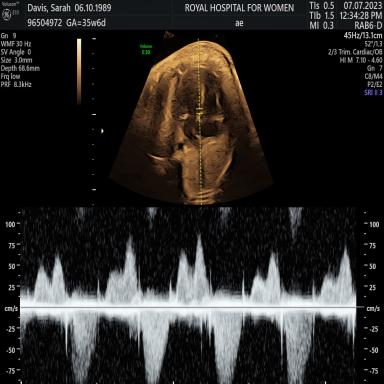Ultrasound-Waves: (27, 206, 354, 384)
